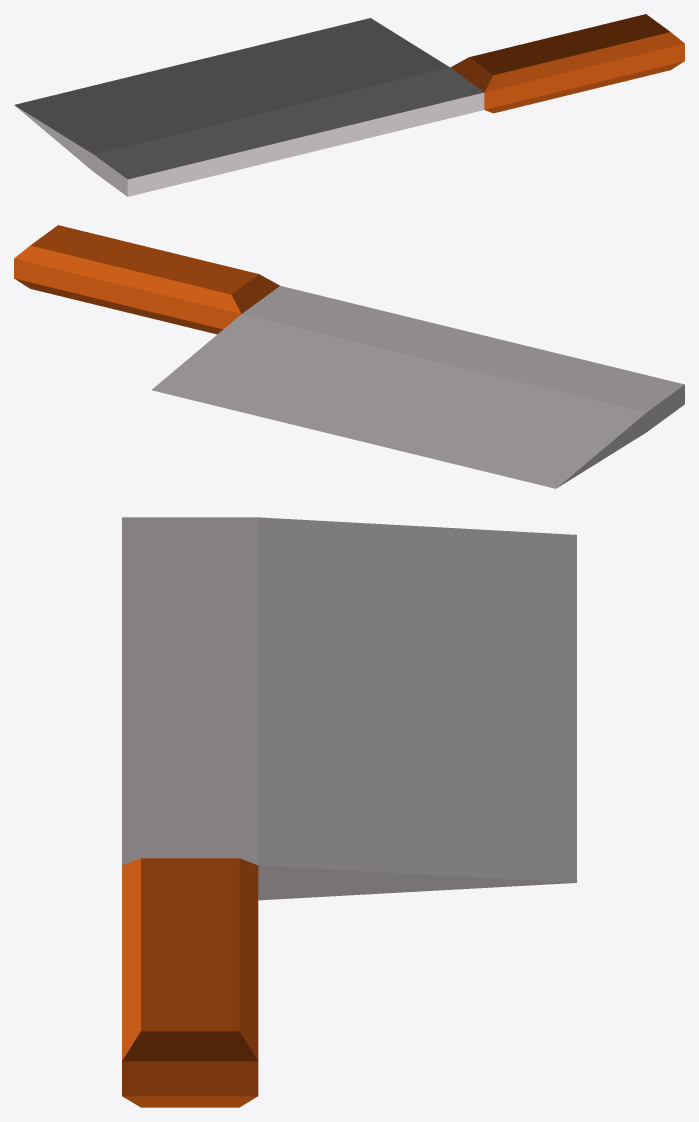
File: Cleaver Knife.fbx
3 views of the same model, one above another, from view 1: azimuth 30°, elevation 25°; view 2: azimuth 150°, elevation 25°; view 3: azimuth 270°, elevation 25° (orthographic). The views are drawn at different scales.
Parts seen in each view (by area): view 1: Node 0; view 2: Node 0; view 3: Node 0.
Boxes of the visible parts, <box> form: Node 0: <box>14,14,684,196</box>; Node 0: <box>14,225,684,488</box>; Node 0: <box>122,517,576,1107</box>.
Size of the model in its own units: 0.1527 by 0.0283 by 0.4319.
